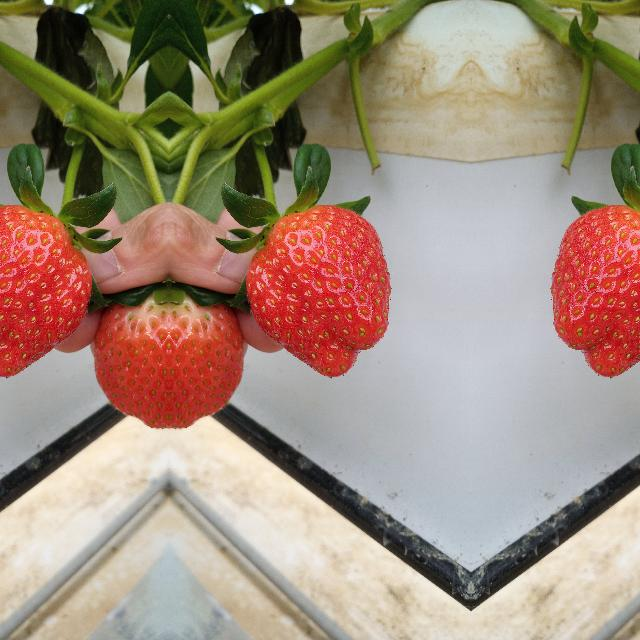Health_100: (245, 205, 391, 378), (0, 204, 91, 377), (550, 204, 640, 377), (168, 294, 248, 431), (88, 294, 168, 431)
